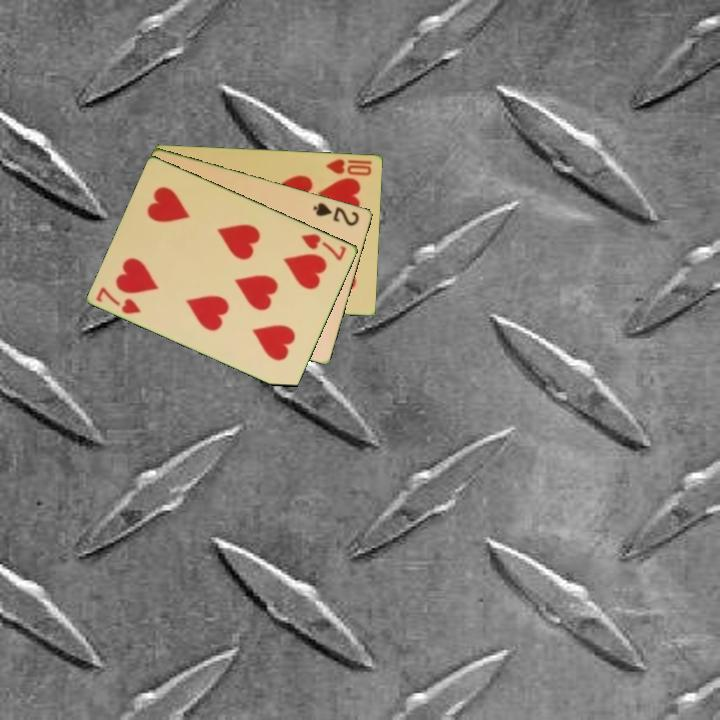10h: (323, 155, 375, 178)
2s: (310, 199, 362, 229)
7h: (297, 230, 350, 264), (93, 283, 144, 317)
